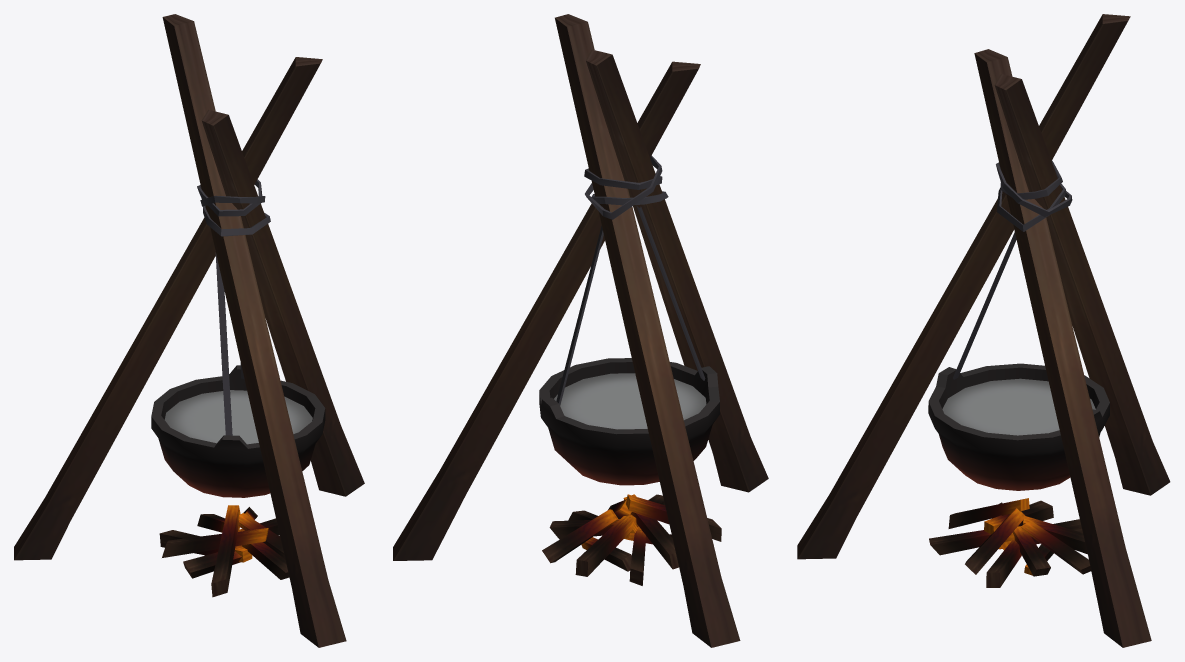
File: Wujian_gouhuo_001.FBX
3 views of the same model, side by side, from view 1: azimuth 30°, elevation 25°; view 2: azimuth 150°, elevation 25°; view 3: azimuth 270°, elevation 25° (orthographic). The views are drawn at different scales.
Parts seen in each view (by area): view 1: Wujian_gouhuo_001; view 2: Wujian_gouhuo_001; view 3: Wujian_gouhuo_001.
Part boxes in pixels (bbox=[...]): Wujian_gouhuo_001: bbox=[14, 14, 364, 647]; Wujian_gouhuo_001: bbox=[393, 14, 768, 647]; Wujian_gouhuo_001: bbox=[797, 14, 1170, 647].
Size of the model in its own units: 355 by 509 by 323.
